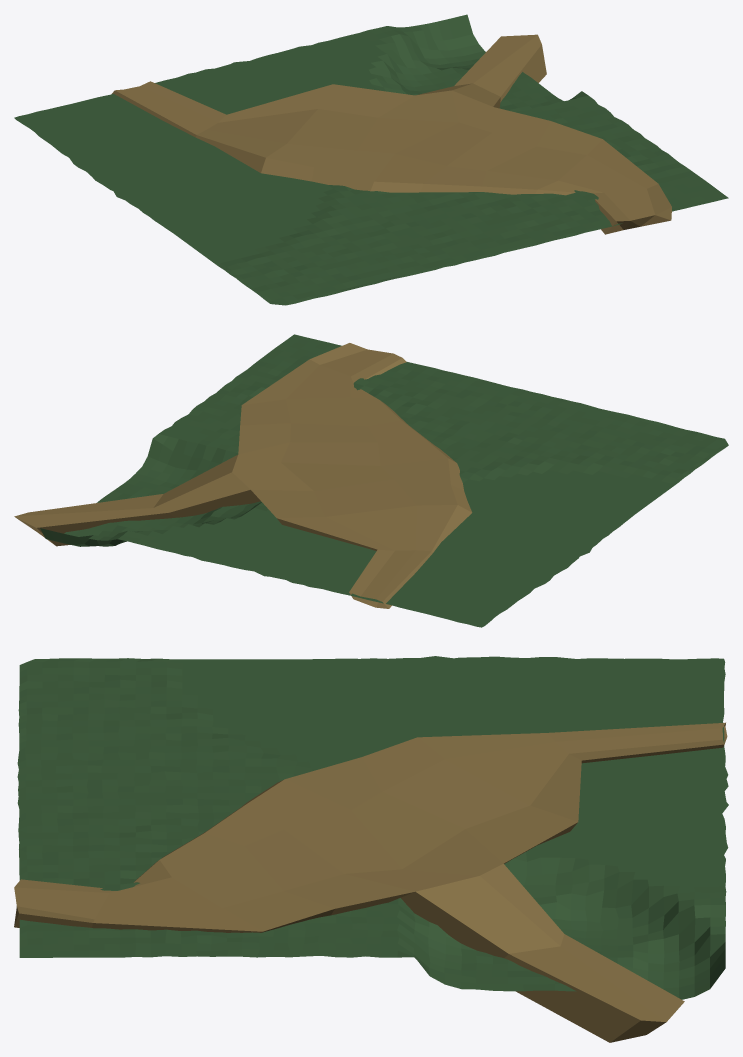
The model's file is athili_copse_section6.glb.
The picture shows the model from 3 angles, top to bottom: view 1: azimuth 30°, elevation 25°; view 2: azimuth 150°, elevation 25°; view 3: azimuth 270°, elevation 25°; orthographic projection. The views are drawn at different scales.
Parts seen in each view (by area): view 1: Grass, Road; view 2: Grass, Road; view 3: Grass, Road.
Part boxes in pixels (x1,y1,x2,y2): Grass: (14, 14, 728, 305); Road: (112, 34, 671, 234); Grass: (40, 334, 728, 627); Road: (14, 343, 472, 608); Grass: (17, 656, 728, 999); Road: (14, 722, 727, 1042).
Size of the model in its own units: 66.17 by 7.19 by 59.9.
